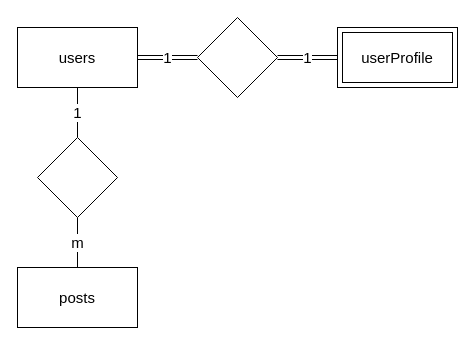
Some shapes in this 475 by 345 pixel diagram are drawn without their labels. Here are the shapes that lost their labels. From the top down, the centre of each, then its label:
At [237,57]: "have".
At [77,177]: "creates".
